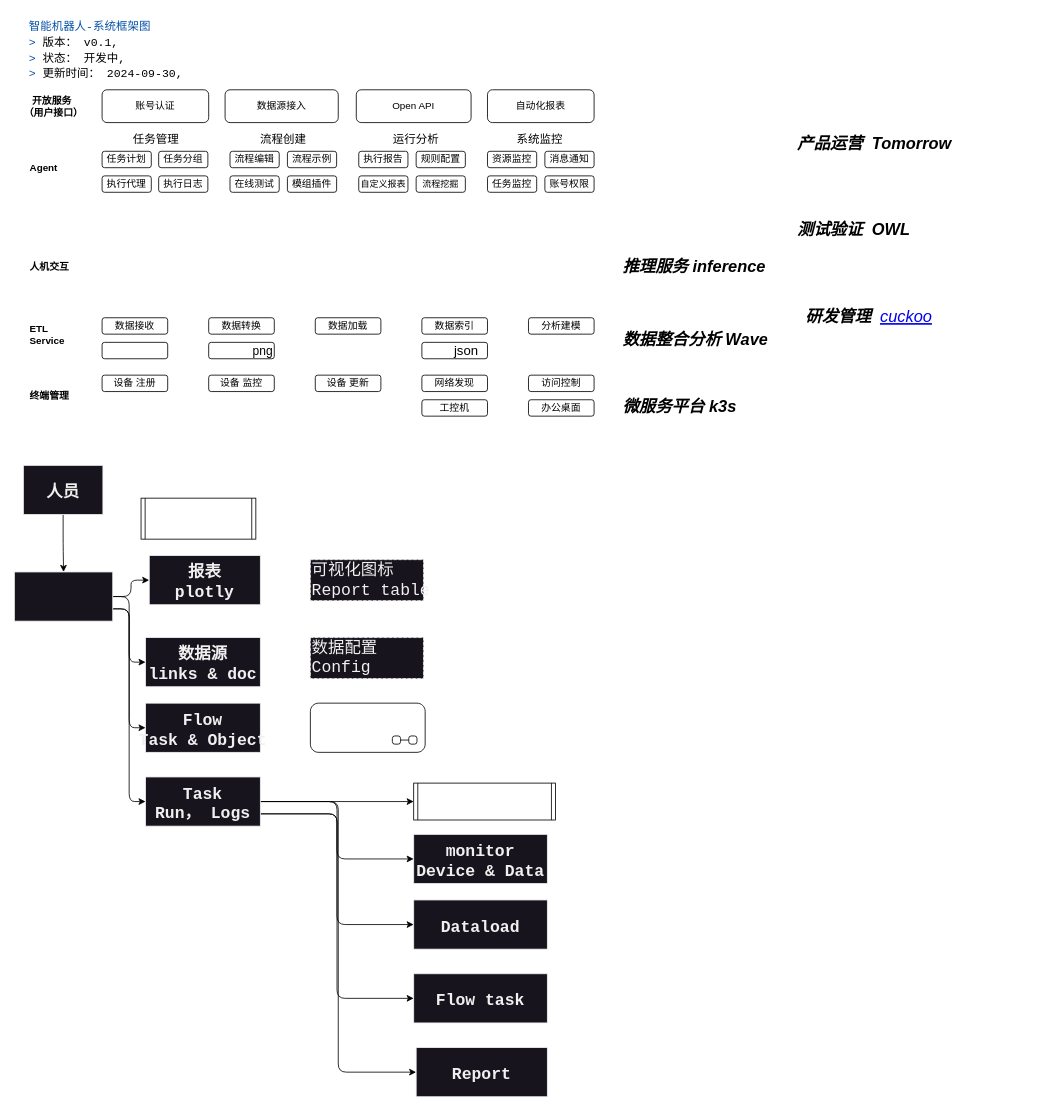
This 1062x1111 diagram has some shape labels left out. The shapes that lost their labels are listed below. From the top down, each one's centre as x and y in pixels, then its label:
At (198,518): "基础功能 pacckages".
At (63,596): "系统界面 Sanic API".
At (367,727): "State1".
At (484,801): "分析任务 Perfect".
